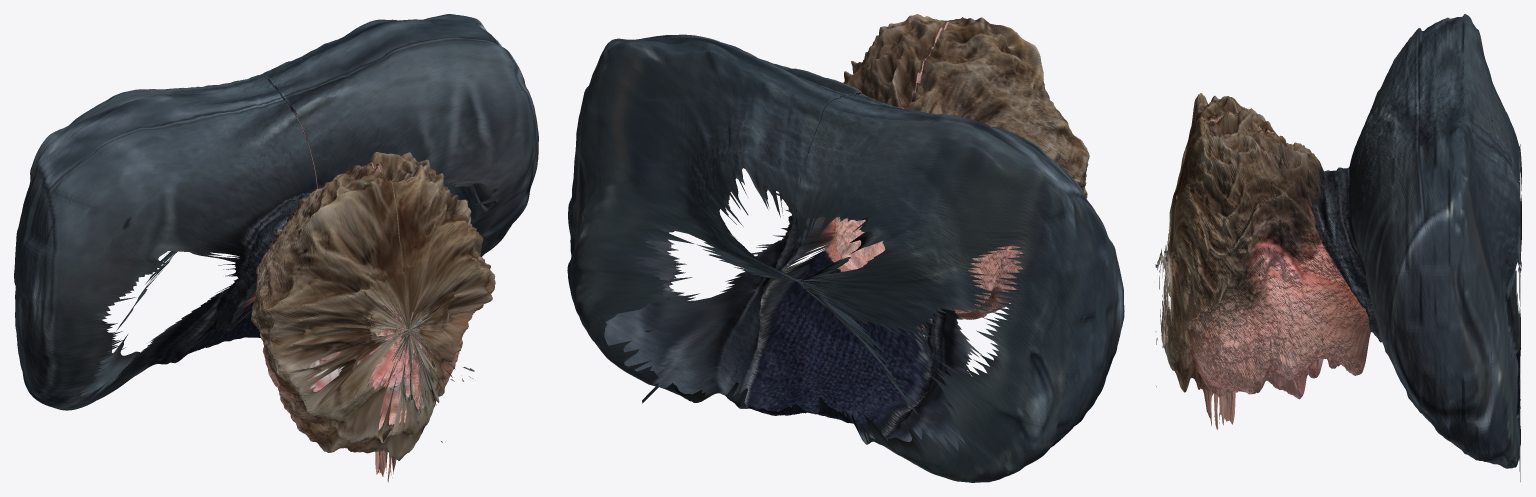
The picture shows the model from 3 angles, left to right: view 1: azimuth 30°, elevation 25°; view 2: azimuth 150°, elevation 25°; view 3: azimuth 270°, elevation 25°; orthographic projection. The views are drawn at different scales.
Parts seen in each view (by area): view 1: geometry_0; view 2: geometry_0; view 3: geometry_0.
Boxes of the visible parts, x1,y1,x2,y2 form: geometry_0: (14, 14, 538, 482); geometry_0: (567, 14, 1124, 482); geometry_0: (1155, 14, 1521, 481).
Bounding box in the file's own units: 1.97 × 1.29 × 1.23.
Materials: 1 (1 with a texture image).
